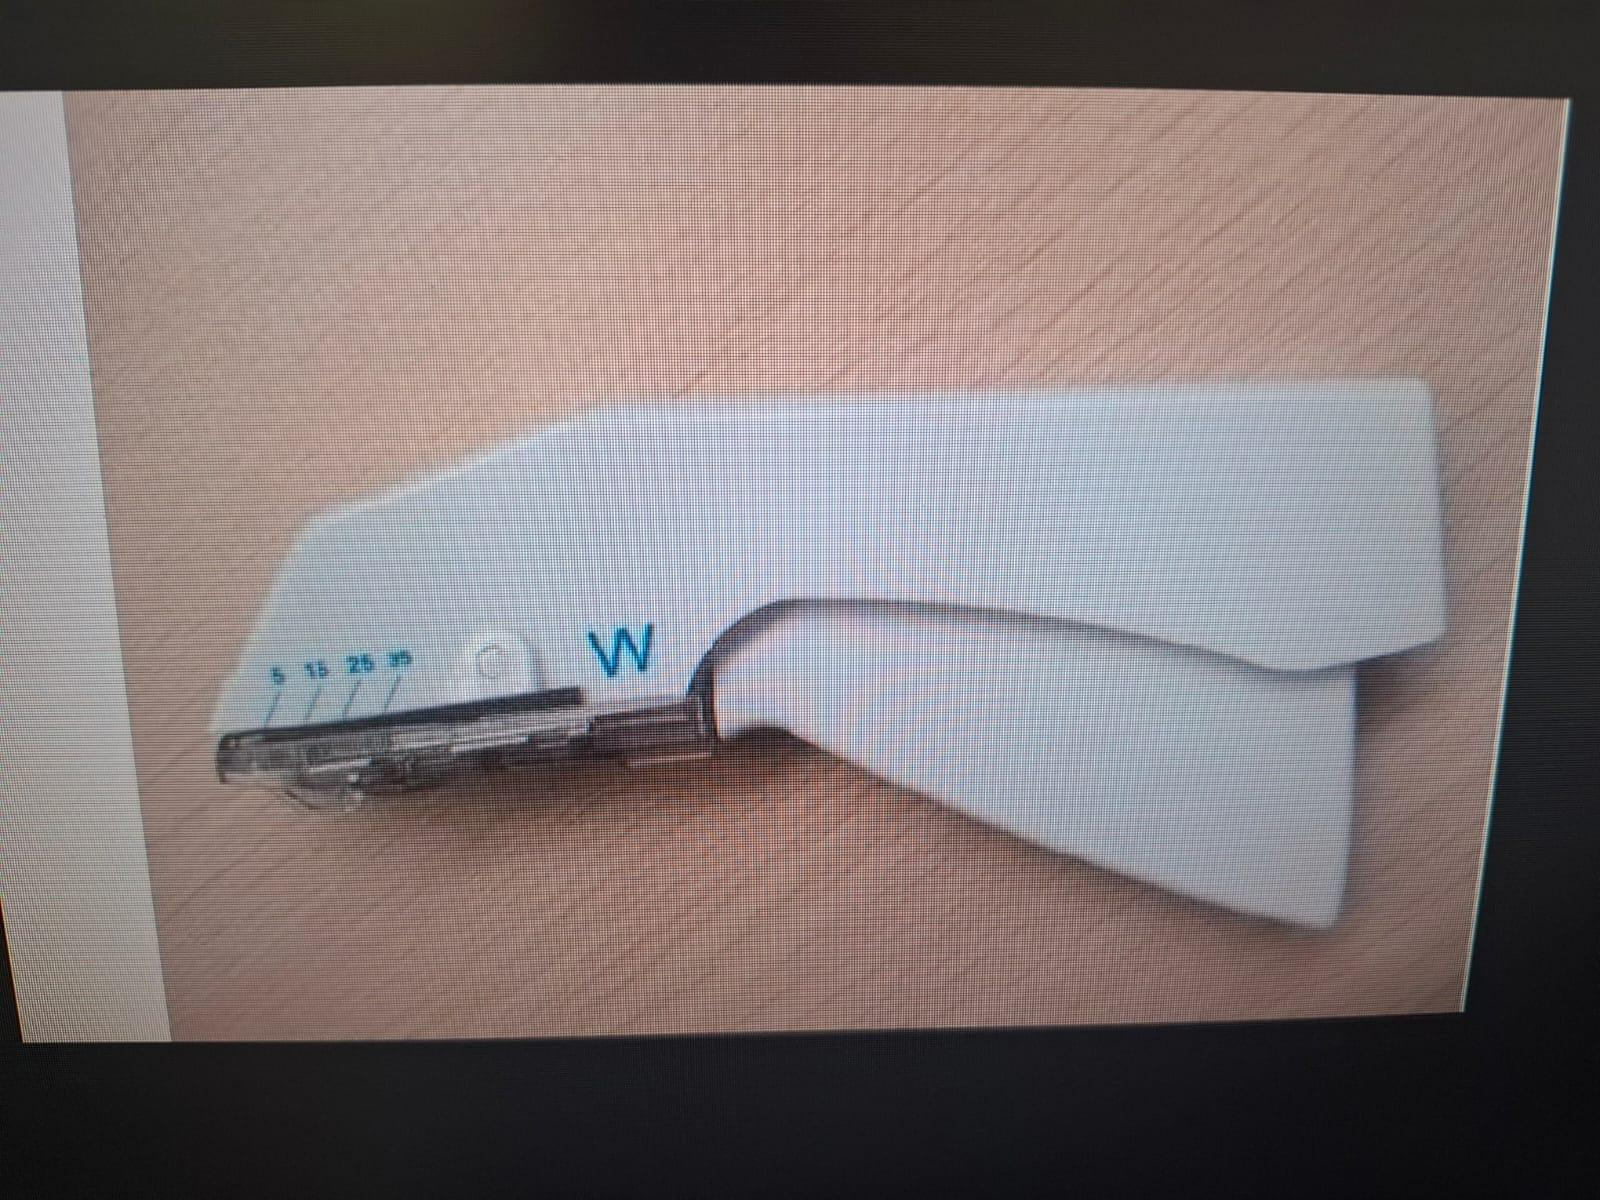Skin Stapler: (178, 366, 1470, 944)
